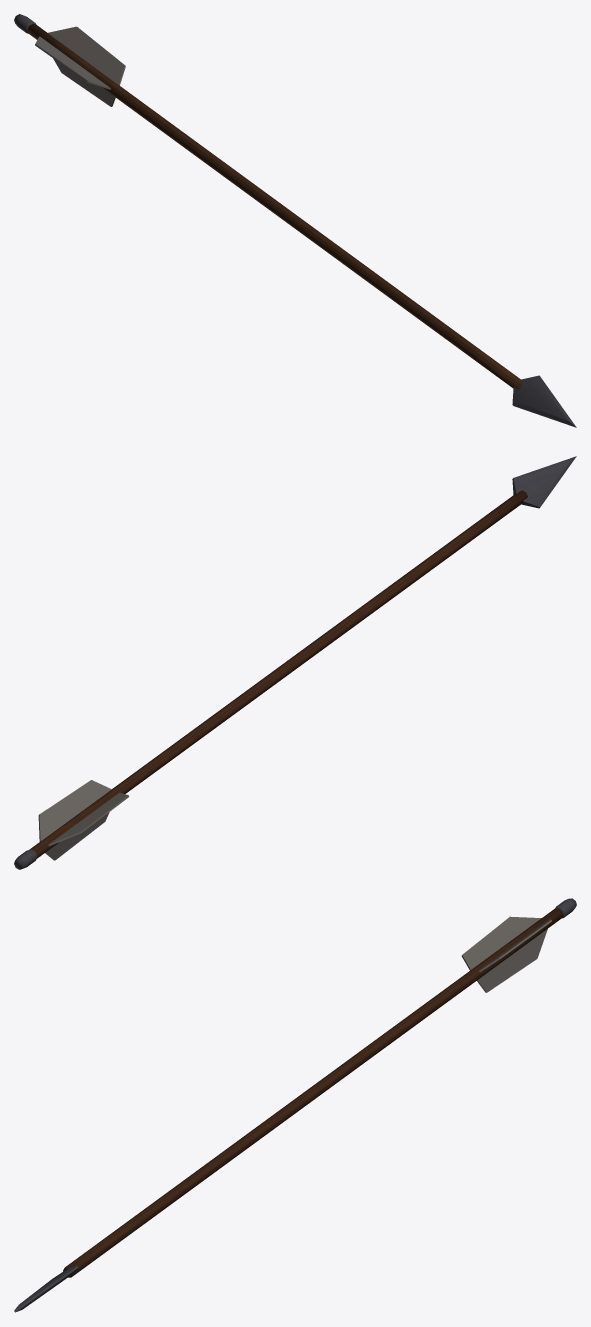
Rendered from weapon_arrow_v2.glb.
3 renders of one model, top to bottom at view 1: azimuth 30°, elevation 25°; view 2: azimuth 150°, elevation 25°; view 3: azimuth 330°, elevation 25°, orthographic.
Visible parts, largest first — view 1: arrow; view 2: arrow; view 3: arrow.
Part boxes in pixels (left/top/right/bottom): arrow: left=14, top=14, right=576, bottom=427; arrow: left=14, top=456, right=576, bottom=869; arrow: left=14, top=898, right=576, bottom=1312.
Bounding box in the file's own units: 0.0348 × 0.033 × 0.78.
Materials: 3 (2 with a texture image).
